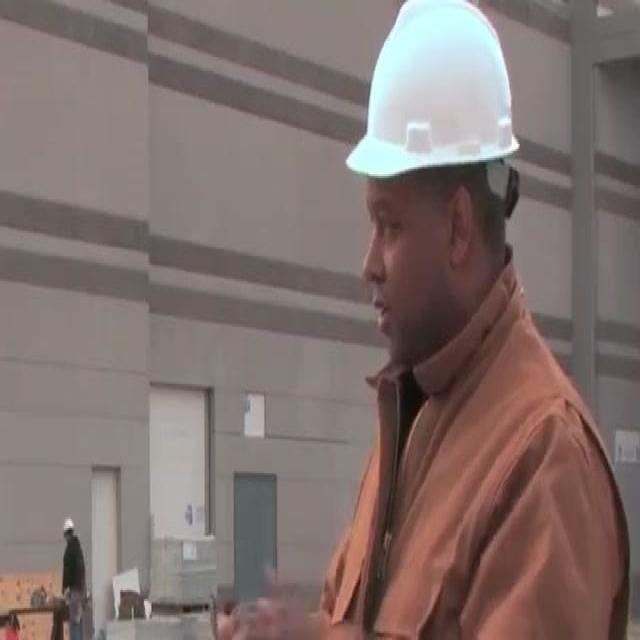Reflective-Jacket: (56, 535, 91, 613)
Safety-Helmet: (343, 1, 533, 202), (60, 512, 79, 539)
